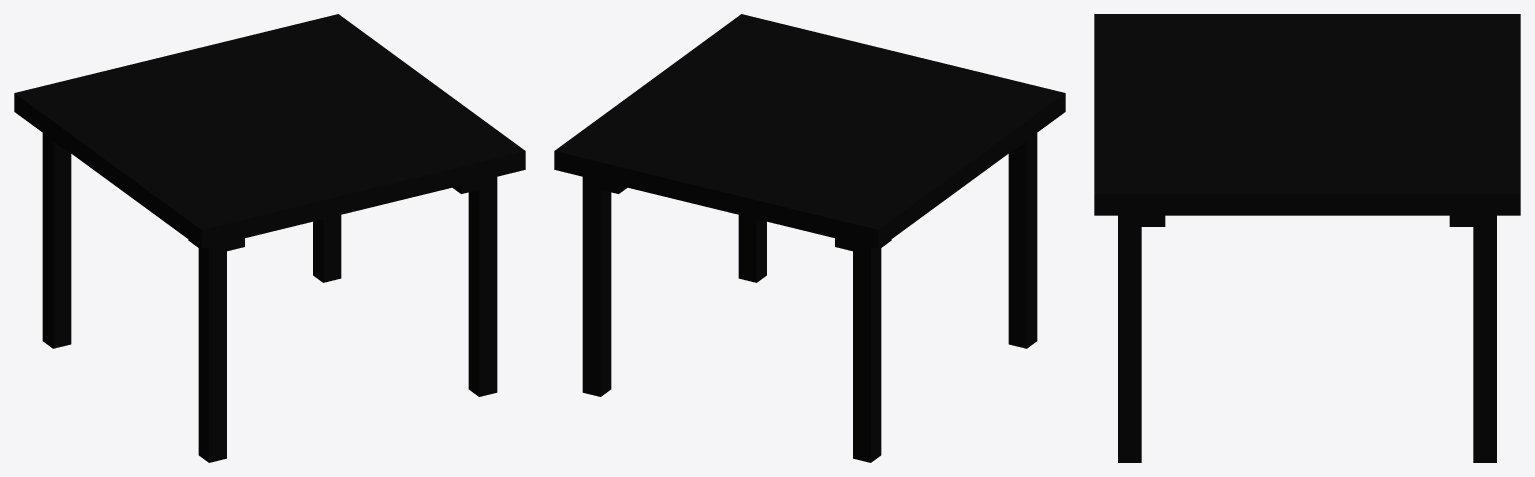
File: Restable_1.obj
The picture shows the model from 3 angles, left to right: view 1: azimuth 30°, elevation 25°; view 2: azimuth 150°, elevation 25°; view 3: azimuth 270°, elevation 25°; orthographic projection. The views are drawn at different scales.
Size of the model in its own units: 1.8 by 1.3 by 1.8.
